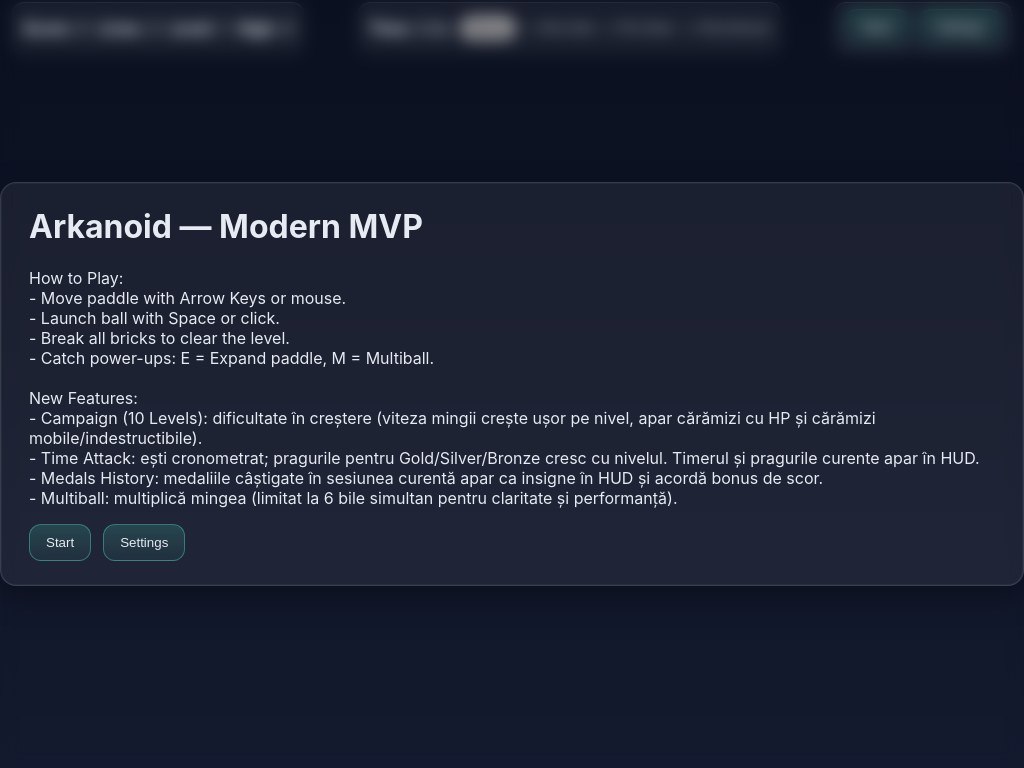
App integration › starts from menu and transitions to playing
Expected: the heading "Arkanoid — Modern MVP" is shown, x1=29 y1=207 x2=423 y2=246
Click the button "Start". click: [60, 542]
box: x1=29 y1=524 x2=91 y2=561
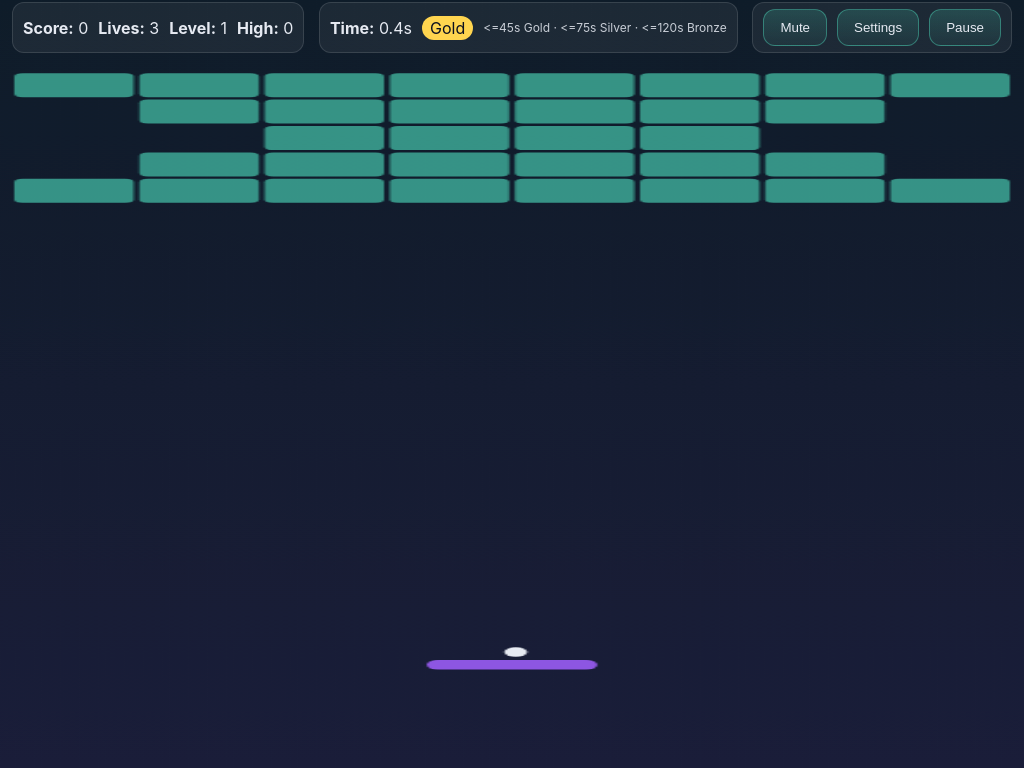
Expected: the text "Score:" is shown, x1=23 y1=18 x2=74 y2=38
Now the heading "Arkanoid — Modern MVP" is gone
